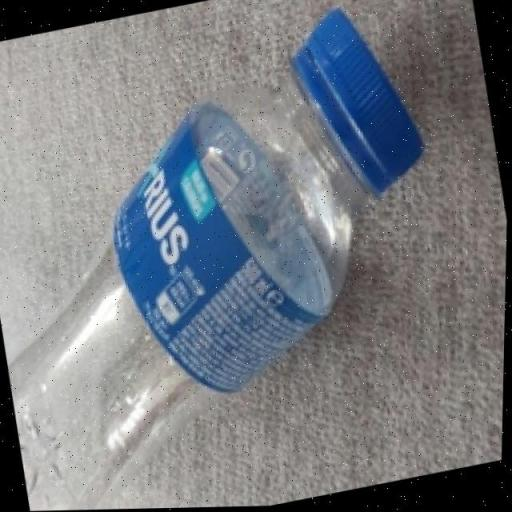plastic: (9, 7, 428, 511)
